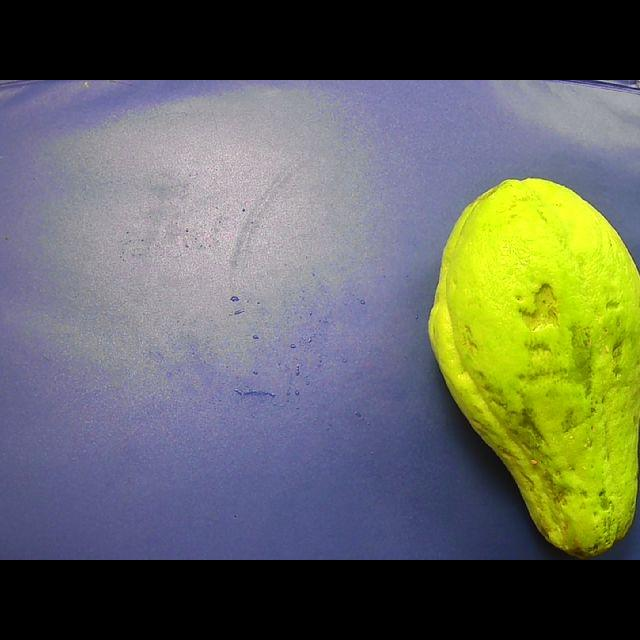chayote: (429, 178, 639, 557)
